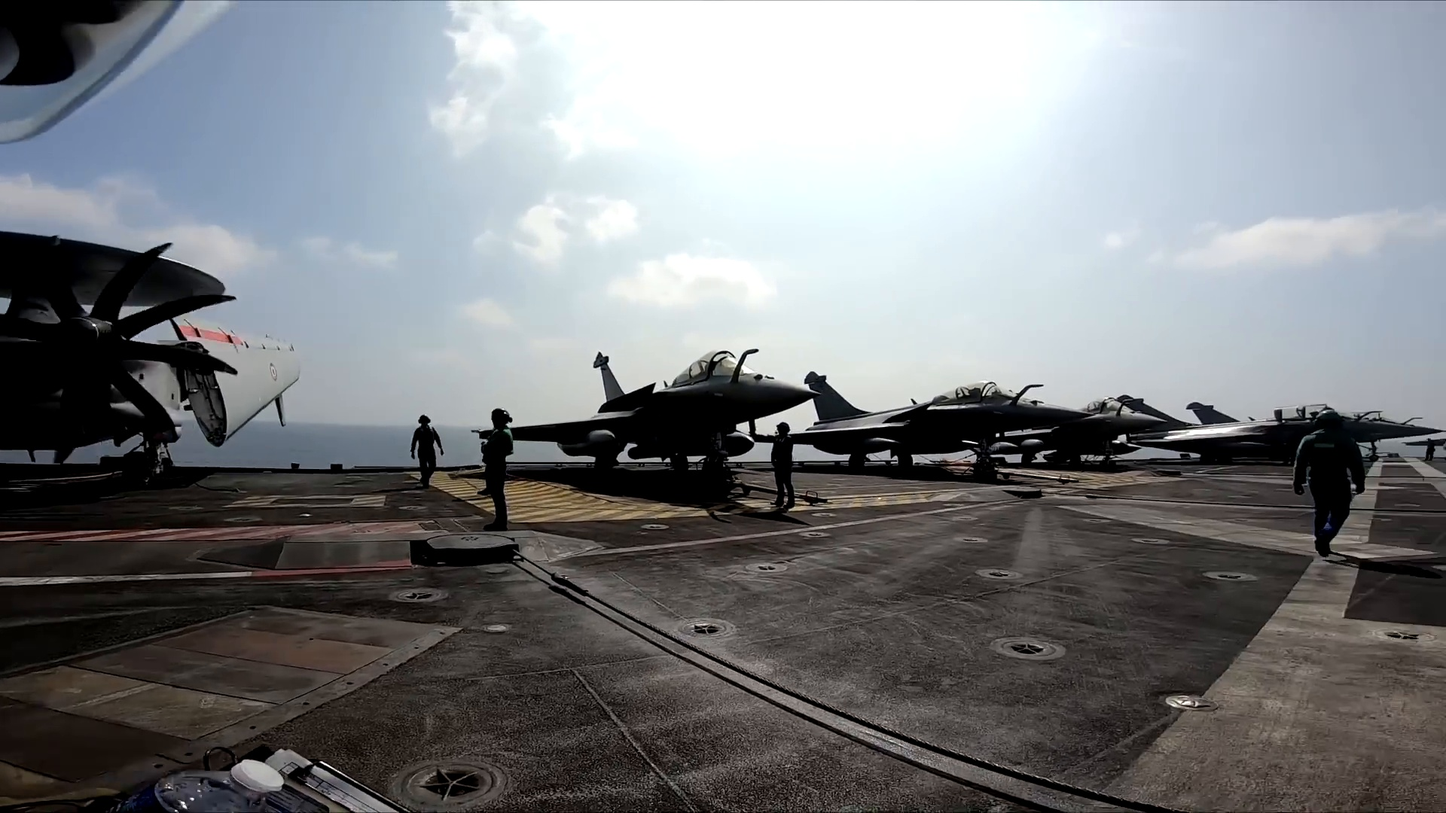Rafale: (472, 349, 822, 478), (788, 373, 1093, 474), (1116, 396, 1414, 464)
